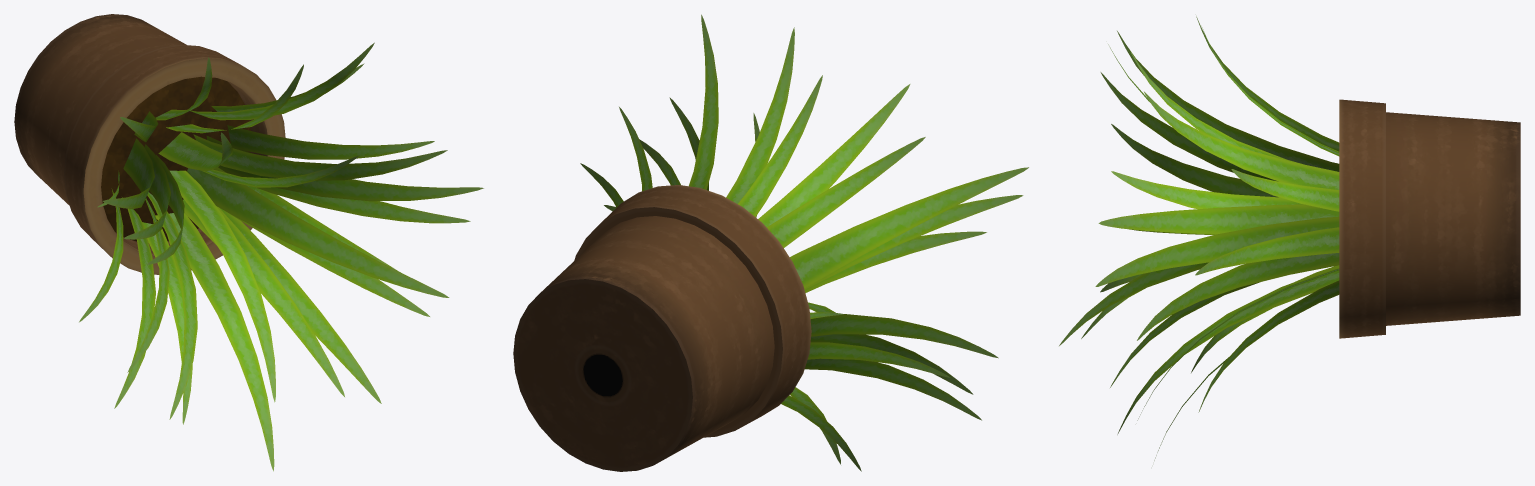
The model's file is flower_pot_lod1.obj.
3 views of the same model, side by side, from view 1: azimuth 30°, elevation 25°; view 2: azimuth 150°, elevation 25°; view 3: azimuth 270°, elevation 25° (orthographic). The views are drawn at different scales.
Bounding box in the file's own units: 1.97 × 1.97 × 2.04.
1 material, 1 textured.
